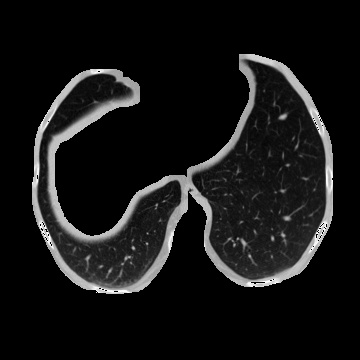PN: (279, 113, 287, 121)
